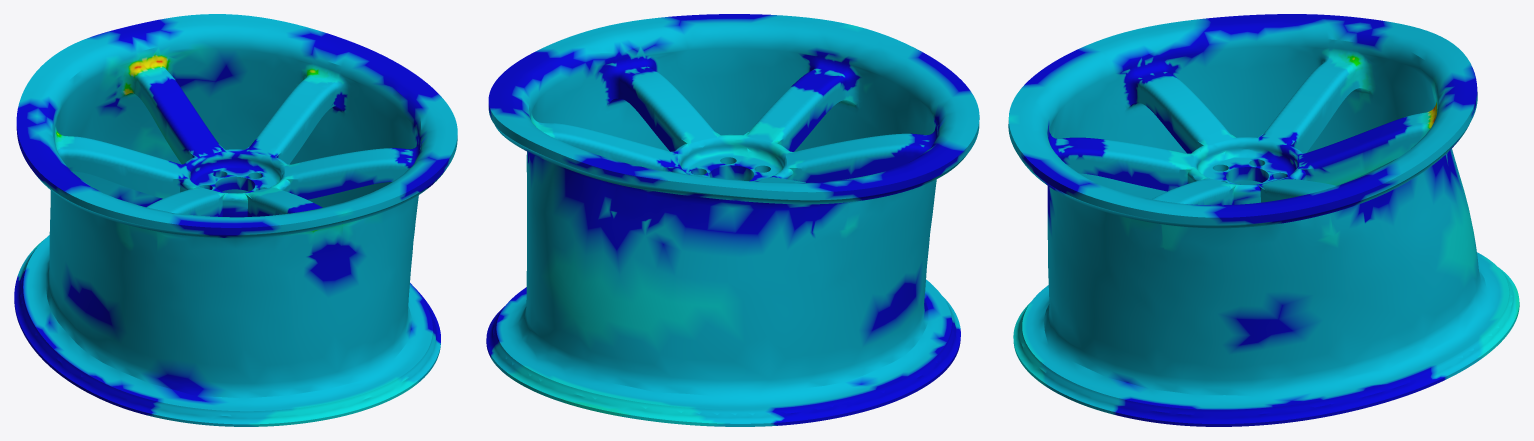
File: wheel-v1-fea.glb
The picture shows the model from 3 angles, left to right: view 1: azimuth 30°, elevation 25°; view 2: azimuth 150°, elevation 25°; view 3: azimuth 270°, elevation 25°; orthographic projection. The views are drawn at different scales.
Visible parts, largest first — view 1: world; view 2: world; view 3: world.
Part boxes in pixels (bbox=[...]): world: bbox=[14, 14, 457, 426]; world: bbox=[486, 14, 979, 426]; world: bbox=[1008, 14, 1519, 426].
Size of the model in its own units: 0.4862 by 0.2833 by 0.521.
